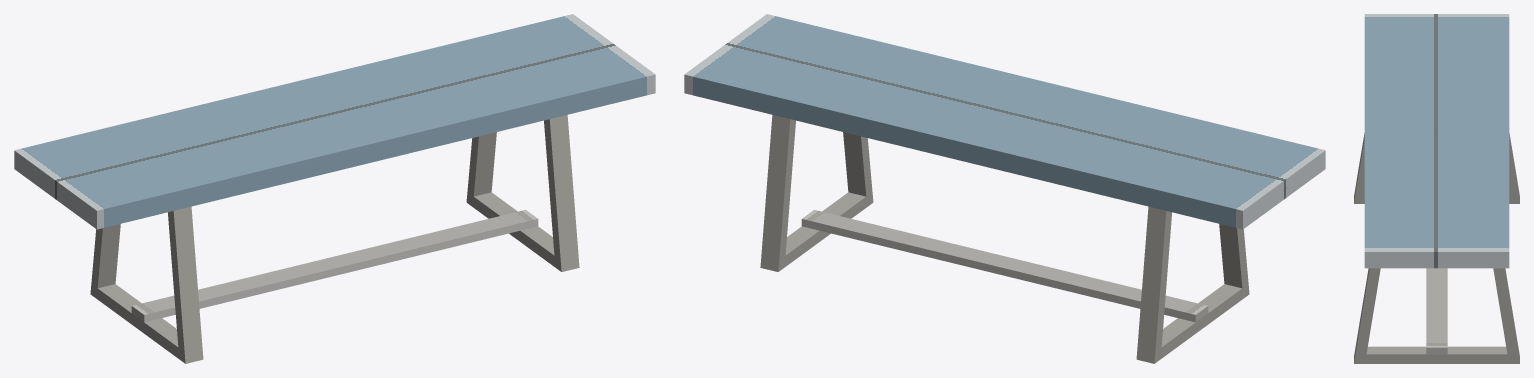
Rendered from 013d_Plastic_Bench.glb.
3 renders of one model, left to right at view 1: azimuth 30°, elevation 25°; view 2: azimuth 150°, elevation 25°; view 3: azimuth 270°, elevation 25°, orthographic. The views are drawn at different scales.
Visible parts, largest first — view 1: part_0; view 2: part_0; view 3: part_0.
Part boxes in pixels (x1,y1,x2,y2): part_0: (14, 14, 655, 363); part_0: (684, 14, 1325, 363); part_0: (1354, 14, 1519, 363).
Bounding box in the file's own units: 1.72 × 0.495 × 0.506.
Materials: 1 (1 with a texture image).
